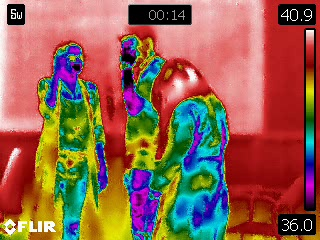human: (149, 57, 236, 240), (34, 40, 110, 240), (117, 25, 170, 171)
